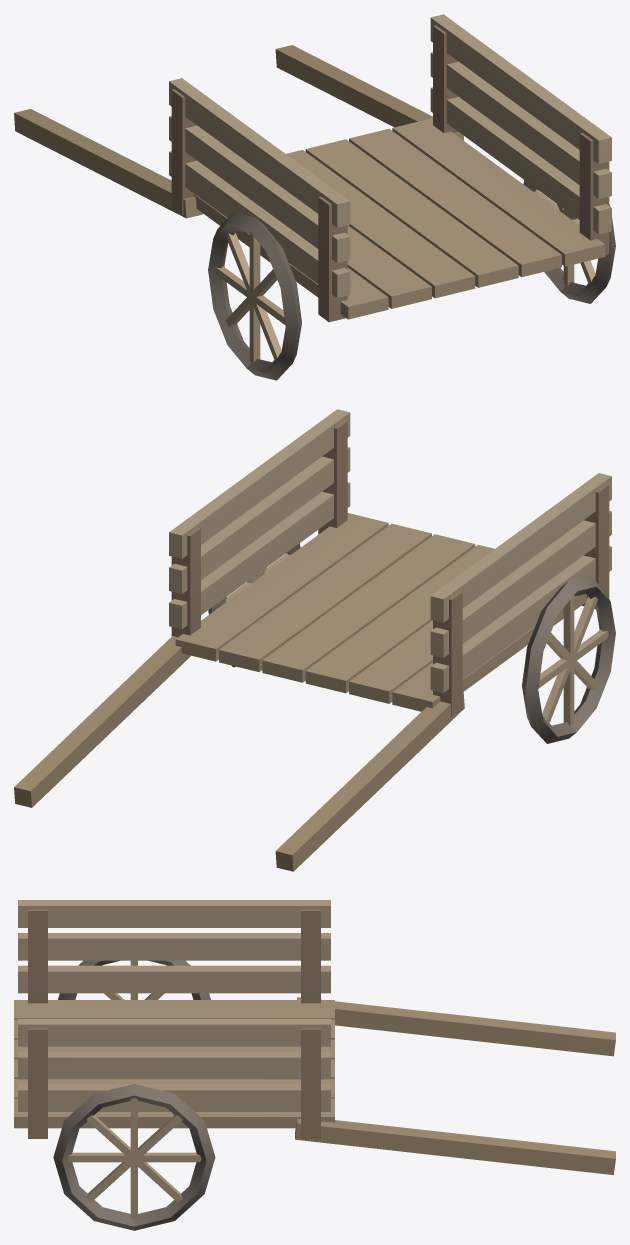
The model's file is AV_Cart.glb.
3 renders of one model, top to bottom at view 1: azimuth 30°, elevation 25°; view 2: azimuth 150°, elevation 25°; view 3: azimuth 270°, elevation 25°, orthographic. The views are drawn at different scales.
Visible parts, largest first — view 1: Body; view 2: Body; view 3: Body.
Boxes of the visible parts, <box> form: Body: <box>14,14,615,380</box>; Body: <box>14,409,615,871</box>; Body: <box>14,900,615,1230</box>.
Size of the model in its own units: 8.84 by 5.42 by 15.
